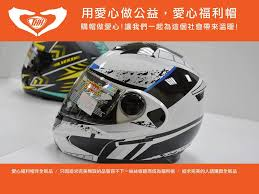helmet: (57, 47, 200, 157)
